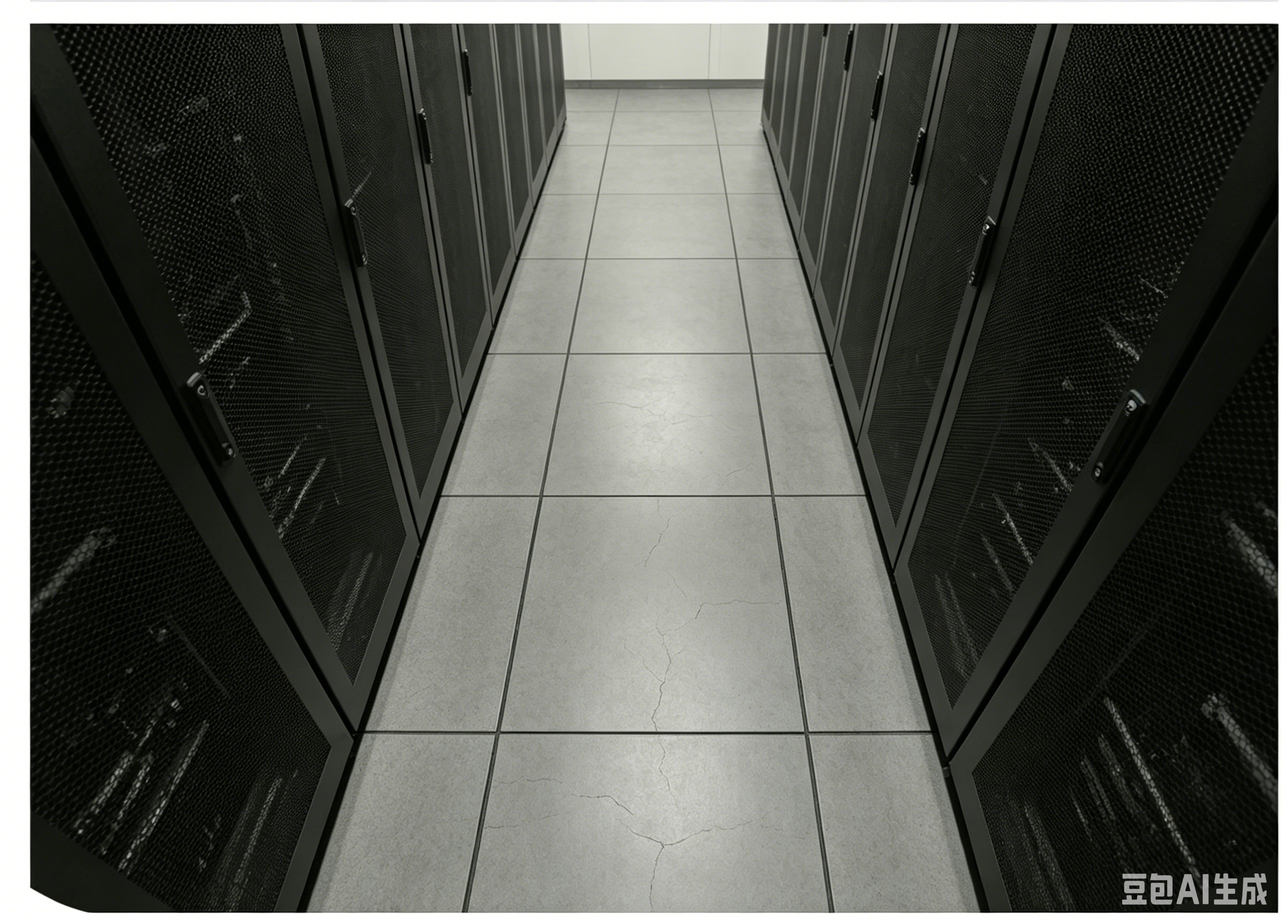floor_defect: (599, 814, 722, 913), (644, 622, 684, 744), (510, 774, 629, 809), (650, 741, 687, 808)
